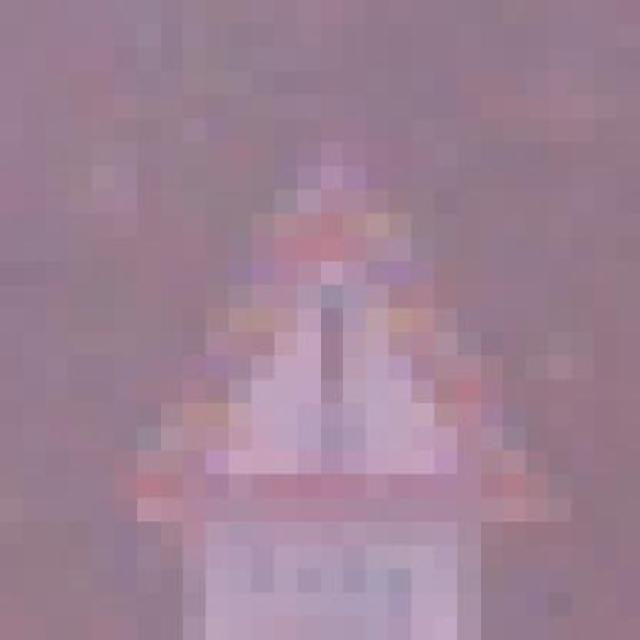Attention Please-: (94, 122, 574, 550)
